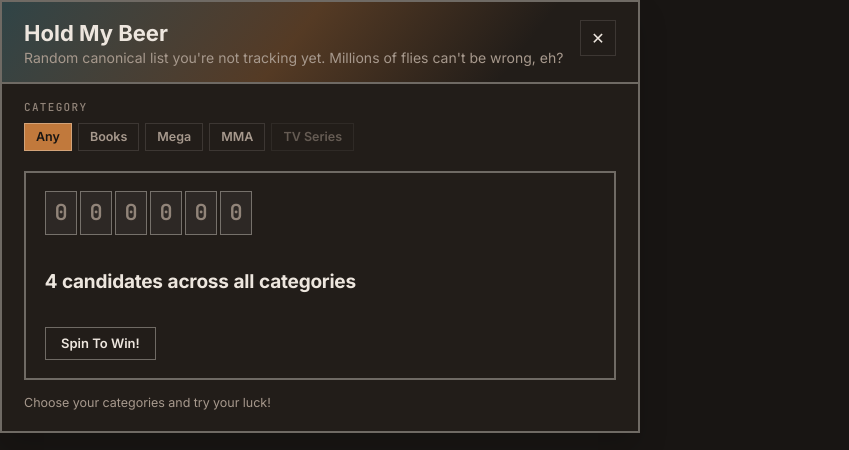
Test: spinning › says there is nothing to spin when nothing is left on the shelves, instead of spinning
Expected: the button "Spin To Win!" is shown, [45, 328, 156, 360]
Click the button "TV Series" at x=313, y=137, box [271, 123, 354, 152]
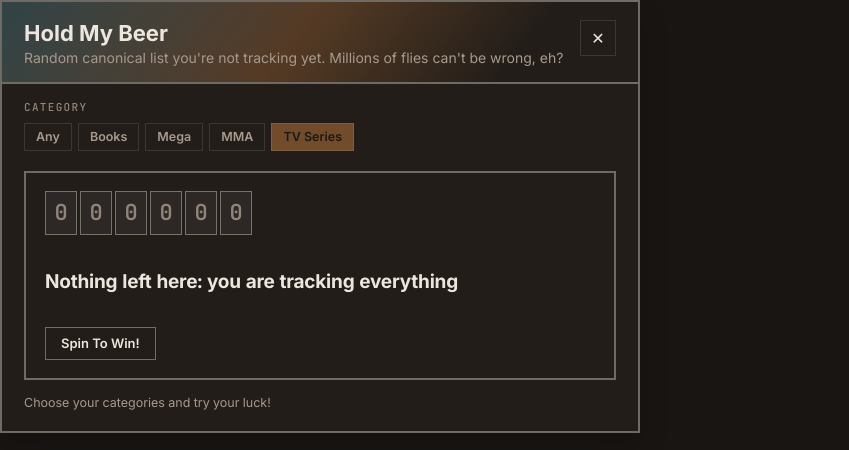
Click the button "Spin To Win!" at x=100, y=344, box [45, 328, 156, 360]
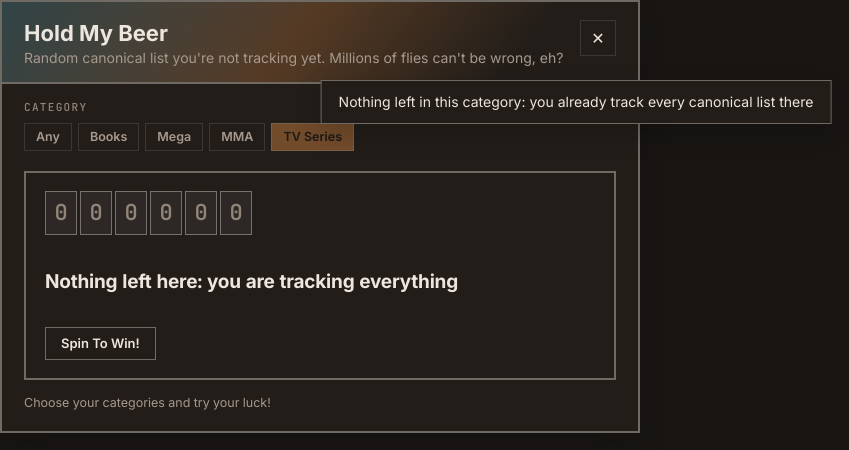
Expected: the text "Nothing left in this category: you already track every canonical list there" is shown, [339, 93, 813, 111]
